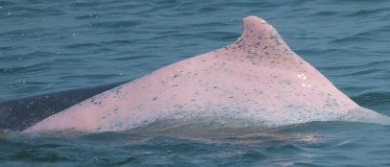fin: (14, 13, 390, 151)
